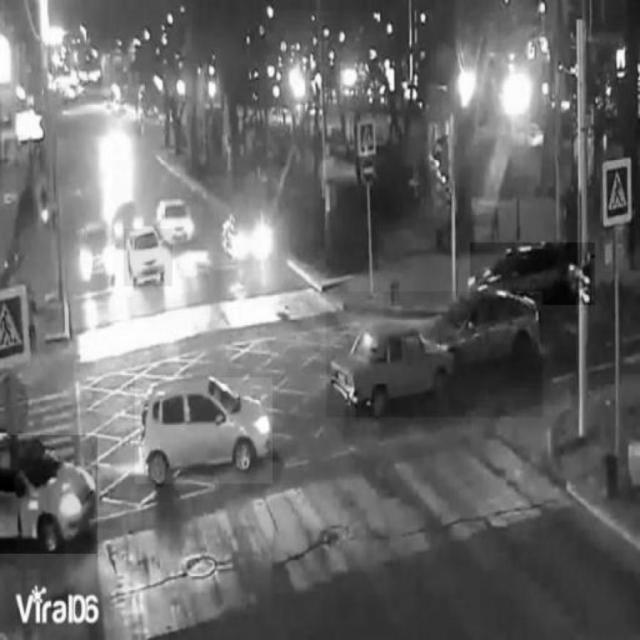accident: (327, 291, 543, 417)
vehicle: (136, 378, 273, 484), (0, 435, 98, 553), (470, 243, 594, 305), (124, 229, 172, 286), (154, 198, 199, 245)
